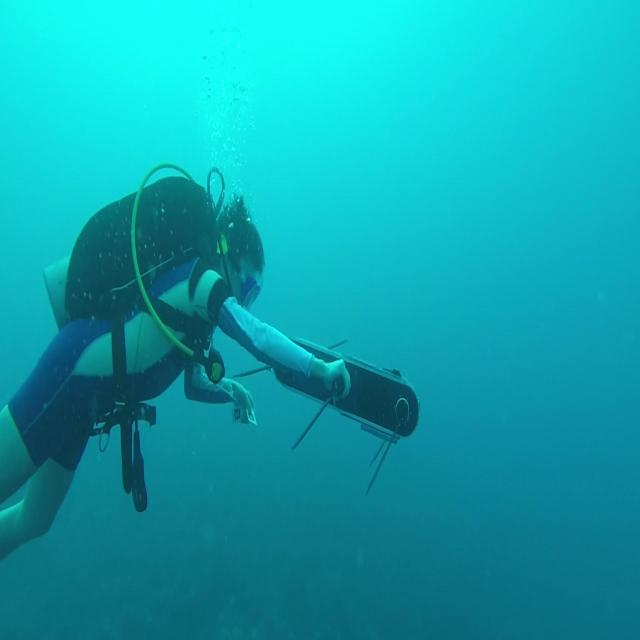human: (0, 166, 352, 560)
